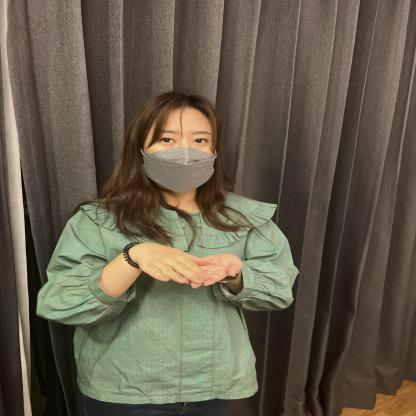Love: (82, 184, 346, 362)
